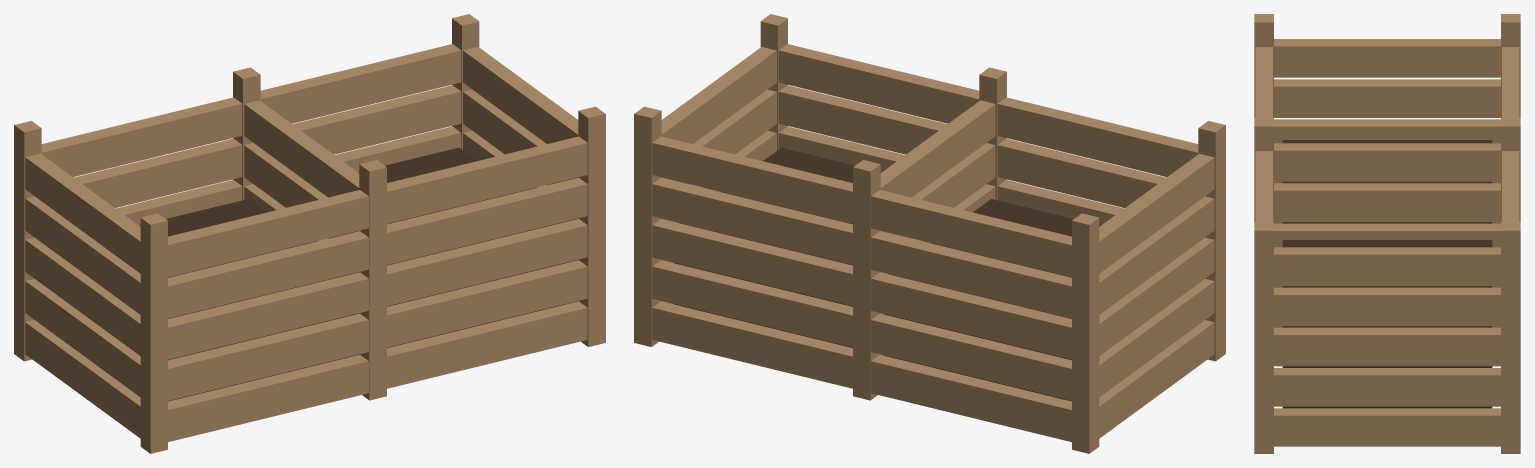
Rendered from compost.glb.
The picture shows the model from 3 angles, left to right: view 1: azimuth 30°, elevation 25°; view 2: azimuth 150°, elevation 25°; view 3: azimuth 270°, elevation 25°; orthographic projection. The views are drawn at different scales.
Visible parts, largest first — view 1: compost_Modrin, compost_Substrat; view 2: compost_Modrin, compost_Substrat; view 3: compost_Modrin, compost_Substrat.
Boxes of the visible parts, left/top/right/bottom form: compost_Modrin: left=14, top=14, right=605, bottom=453; compost_Substrat: left=139, top=147, right=565, bottom=401; compost_Modrin: left=634, top=14, right=1225, bottom=453; compost_Substrat: left=674, top=147, right=1100, bottom=401; compost_Modrin: left=1254, top=14, right=1520, bottom=453; compost_Substrat: left=1282, top=140, right=1492, bottom=408.
Size of the model in its own units: 2.08 by 1 by 1.08.
